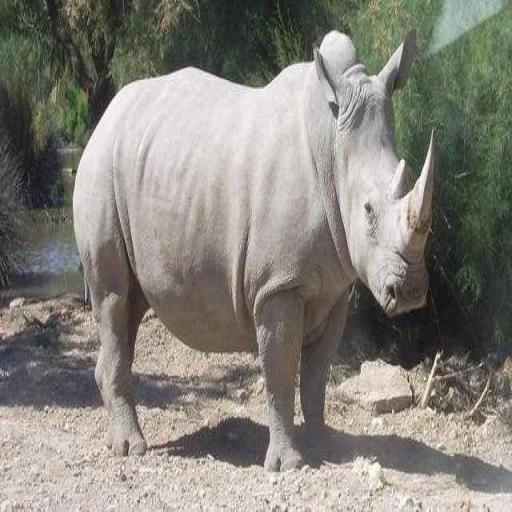Rhino: (71, 27, 435, 472)
